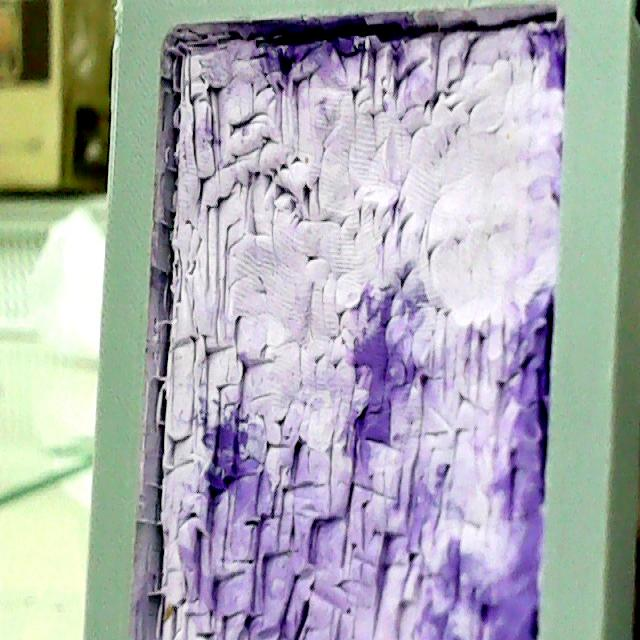block: (68, 0, 640, 633)
